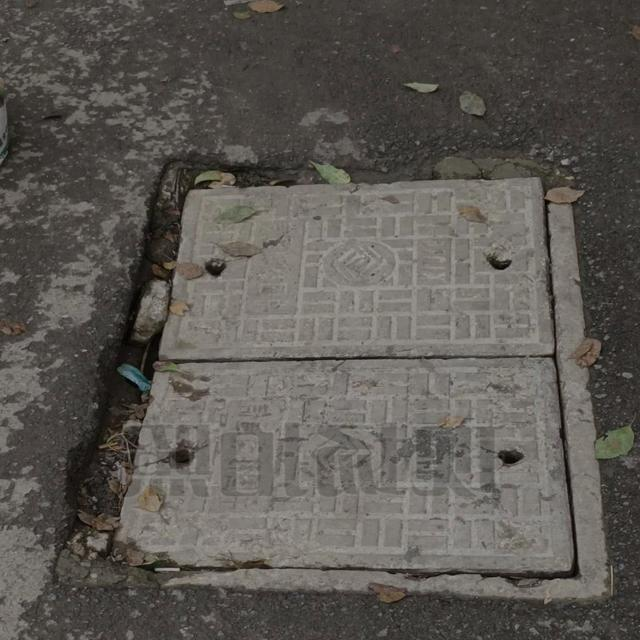circle: (49, 158, 603, 598)
